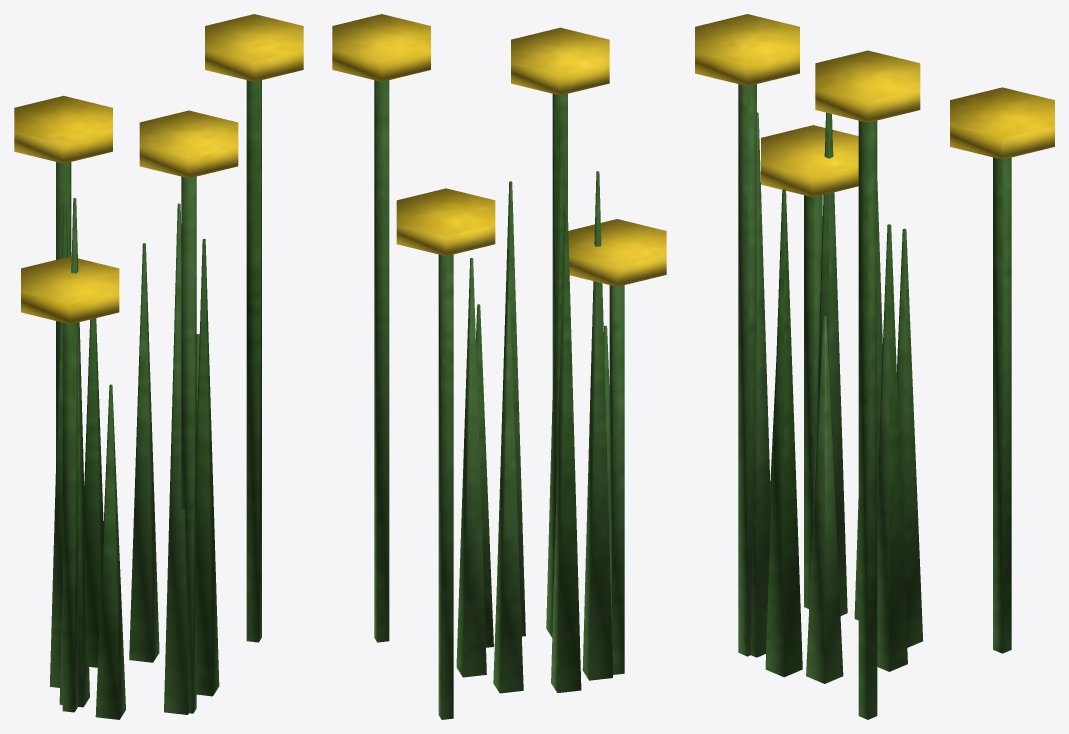
The model's file is wildflower_tuft_0.glb.
The picture shows the model from 3 angles, left to right: view 1: azimuth 30°, elevation 25°; view 2: azimuth 150°, elevation 25°; view 3: azimuth 270°, elevation 25°; orthographic projection. The views are drawn at different scales.
Visible parts, largest first — view 1: wildflower_tuft_0; view 2: wildflower_tuft_0; view 3: wildflower_tuft_0.
Part boxes in pixels (left/top/right/bottom): wildflower_tuft_0: left=14, top=14, right=303, bottom=719; wildflower_tuft_0: left=332, top=14, right=666, bottom=719; wildflower_tuft_0: left=695, top=14, right=1054, bottom=719.
Bounding box in the file's own units: 0.4066 × 0.7574 × 0.3861.
Materials: 2 (2 with a texture image).
